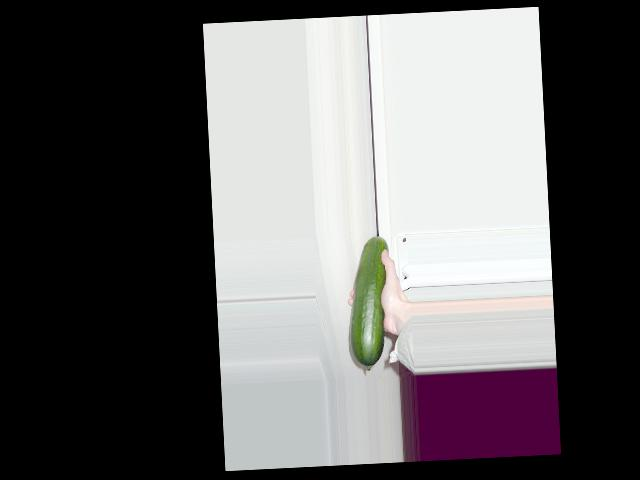cucumber: (343, 235, 394, 371)
